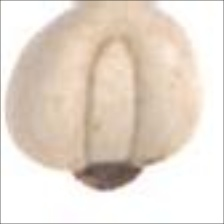L5: (81, 34, 137, 163), (66, 159, 152, 193)
L6: (1, 1, 204, 193)
